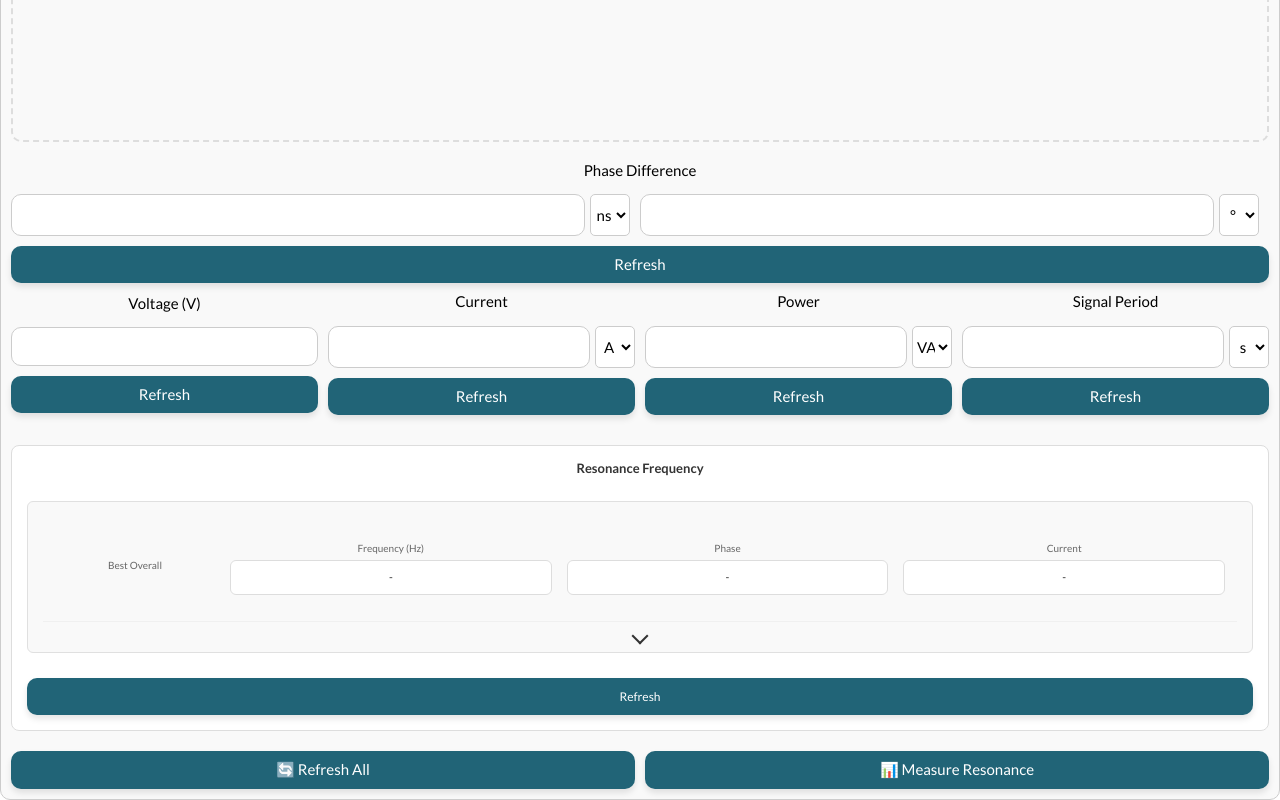
Test case: MonitoringPanel › handles API response with success: false
(page scrolled)
Click the button "🔄 Refresh All" at (323, 770), box [11,752,635,789]
(page scrolled)
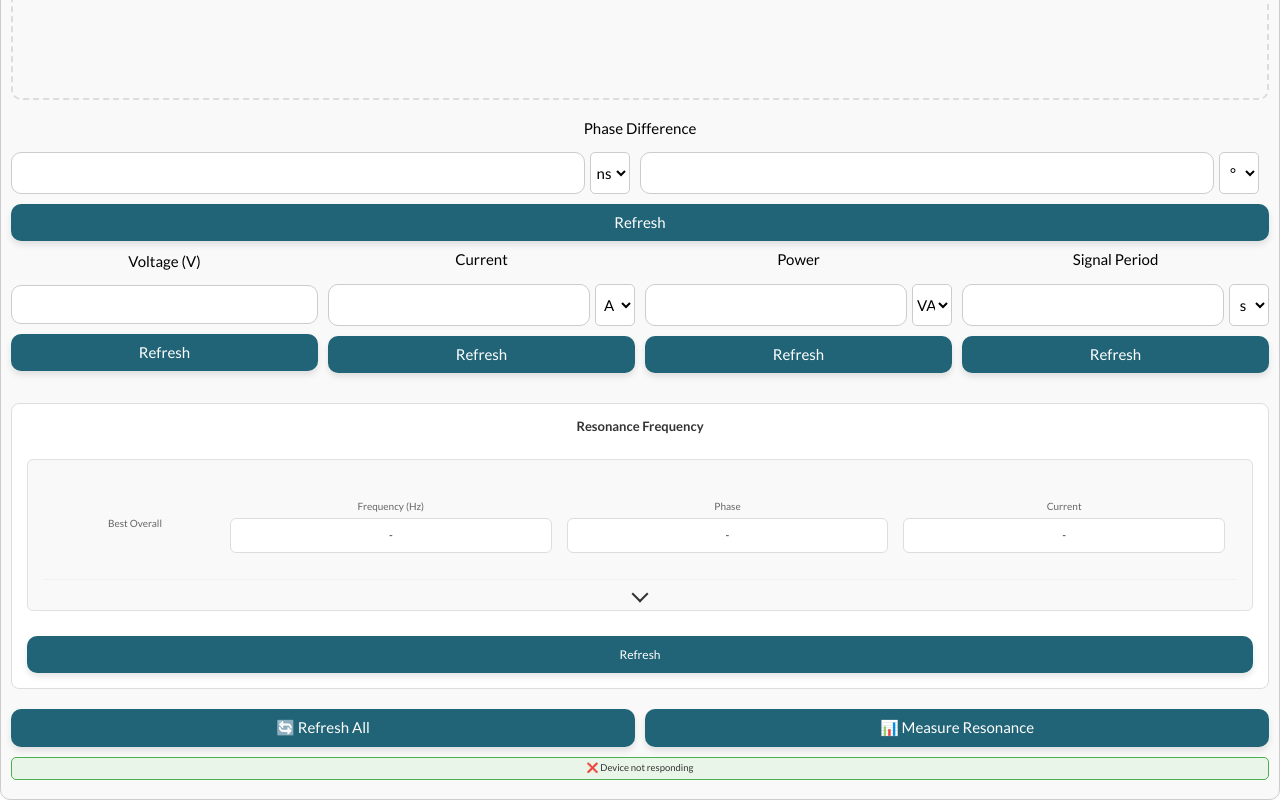
Check: the text "❌ Device not responding" is shown, box [11,757,1269,780]
